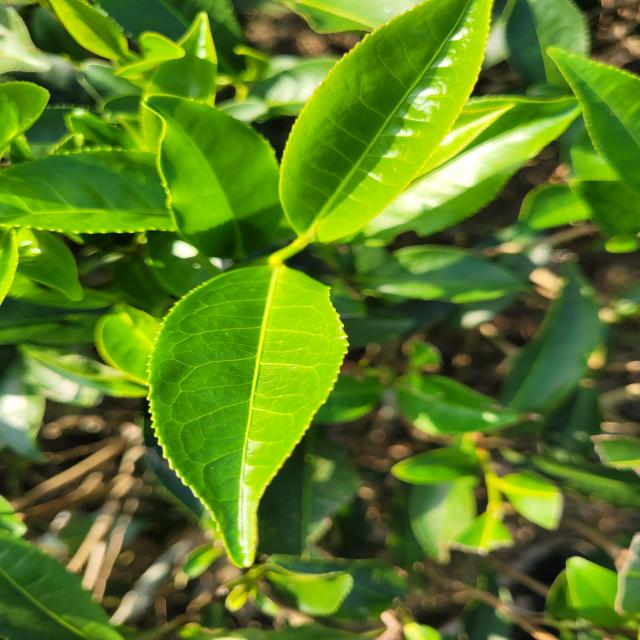Category B(2-4 days): (119, 210, 385, 593)
